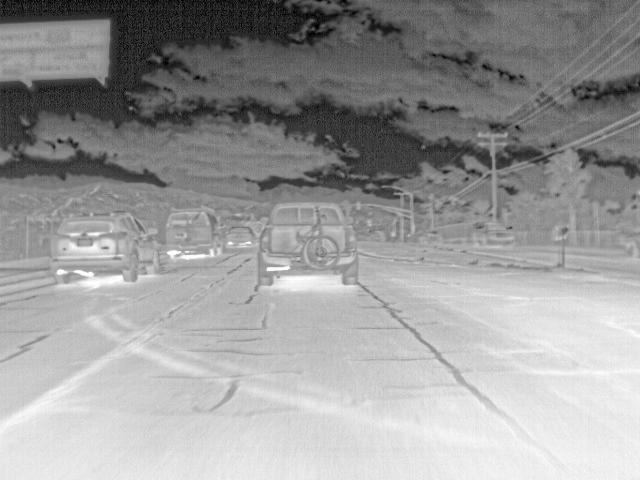car: (256, 197, 360, 286), (51, 212, 166, 285), (165, 206, 229, 257), (471, 220, 516, 250), (618, 228, 640, 259), (226, 226, 256, 248), (418, 230, 445, 246)
